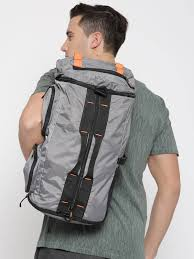backpack: (19, 64, 136, 228)
